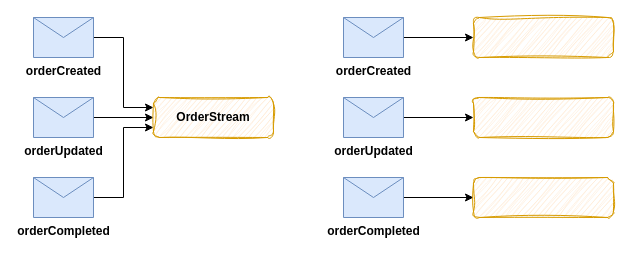
Image size: 631x256. Some labels were removed from this diagram. The centre of each missing label's shape, as x and y in pixels:
OrderCompletedStream: (x=543, y=197)
OrderCreatedStream: (x=543, y=37)
OrderUpdatedStream: (x=543, y=117)
